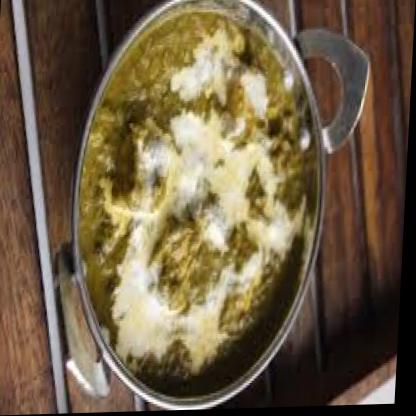palak_paneer: (73, 9, 316, 394)
